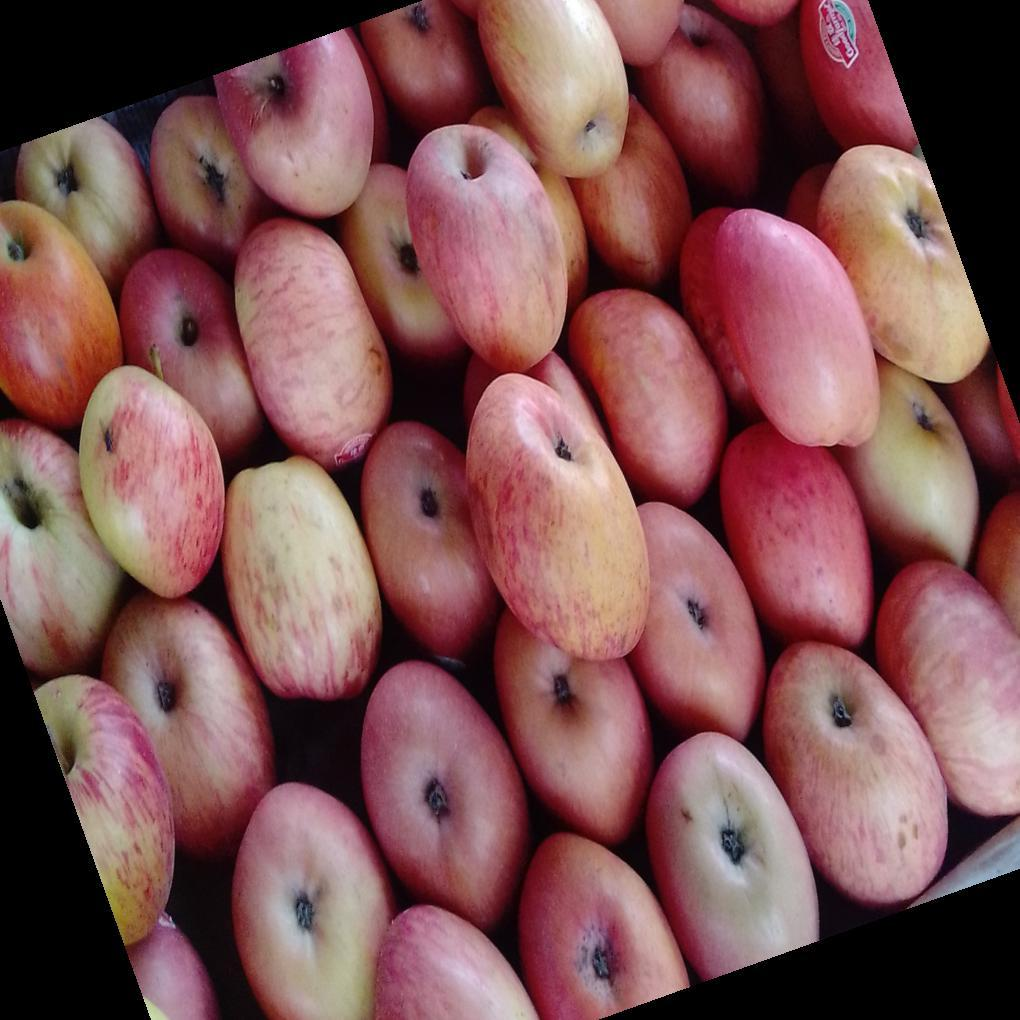FreshGuava: (18, 8, 1020, 1020)
